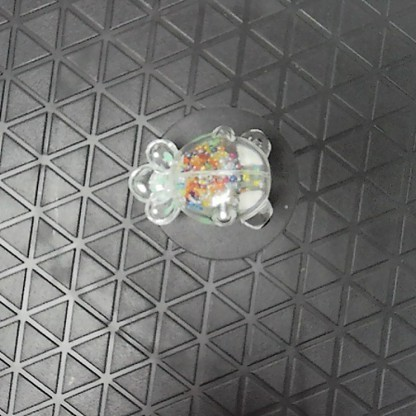whitefish: (130, 123, 276, 229)
